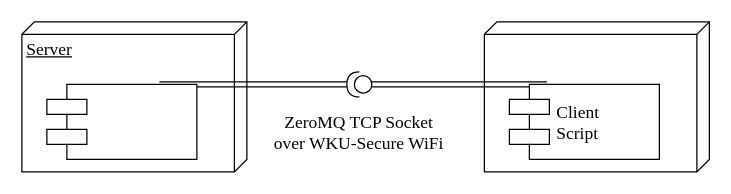
Image size: 731x194. Some labels were removed from this diagram. Here are the shapes that lost their labels. From the top down, the box of each, then its label:
(483, 21, 709, 172): Pi Camera Client(s)
(46, 83, 197, 159): Counting Server
